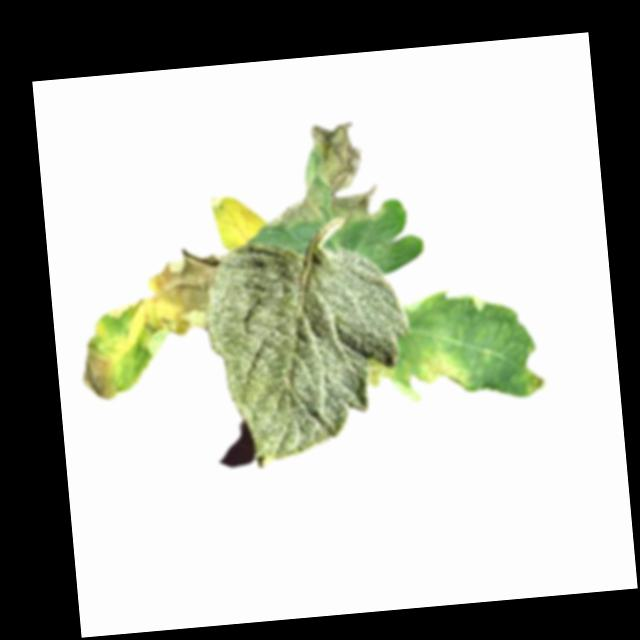Late_blight: (265, 120, 376, 229), (134, 244, 224, 339), (206, 191, 267, 251), (415, 343, 474, 397), (76, 342, 121, 404), (366, 355, 419, 407), (527, 372, 549, 395)
healthy: (201, 232, 420, 473)
